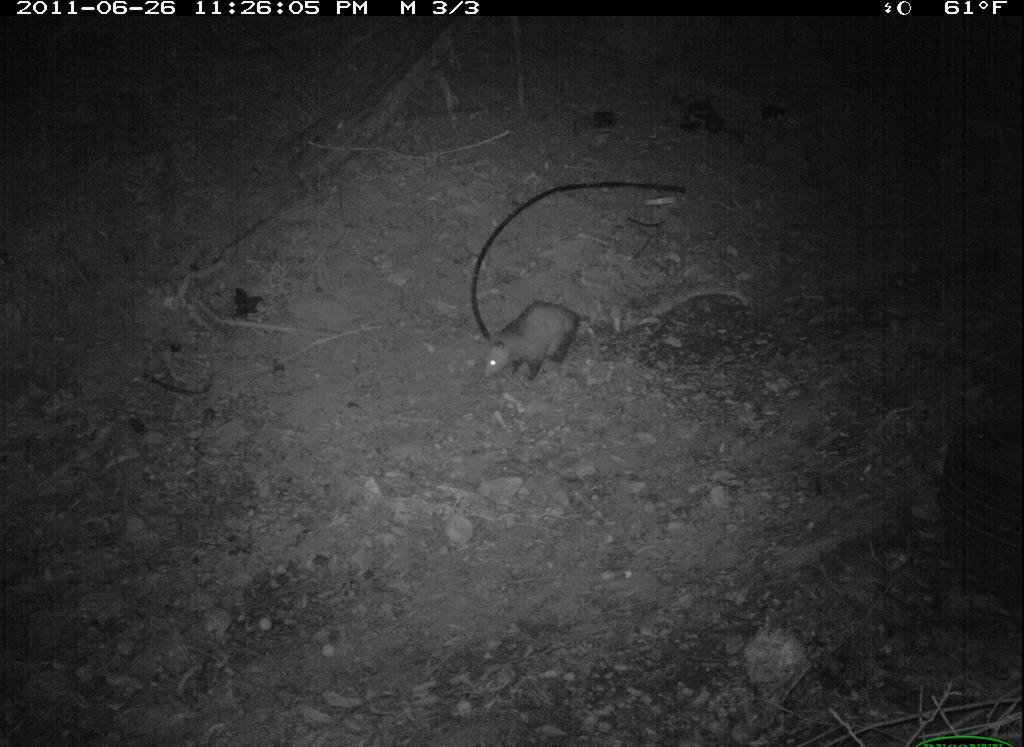opossum: (468, 292, 611, 402)
